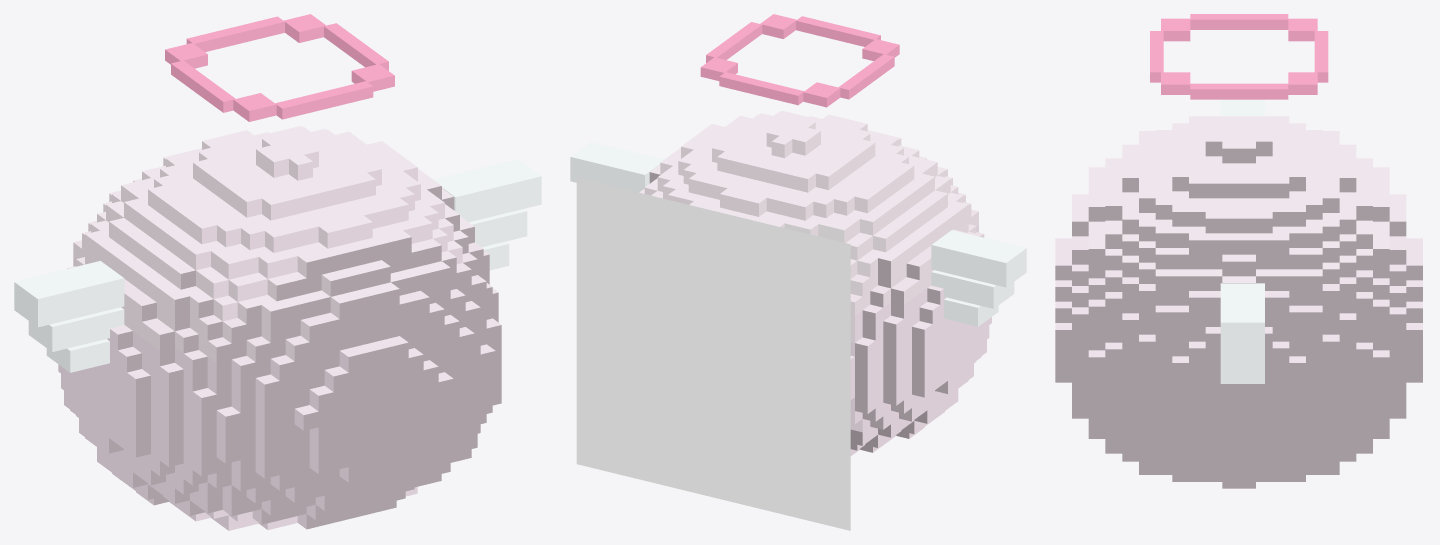
Rendered from slime_lumen.glb.
The picture shows the model from 3 angles, left to right: view 1: azimuth 30°, elevation 25°; view 2: azimuth 150°, elevation 25°; view 3: azimuth 270°, elevation 25°; orthographic projection. The views are drawn at different scales.
Visible parts, largest first — view 1: Shell, ElementDetails; view 2: Face, Shell, ElementDetails; view 3: Shell, ElementDetails.
Part boxes in pixels (x1,y1,x2,y2): Shell: (58,126,501,530); ElementDetails: (14,14,541,372); Face: (576,177,850,530); Shell: (639,110,991,455); ElementDetails: (570,14,1026,326); Shell: (1055,116,1422,488); ElementDetails: (1150,14,1328,383).
Bounding box in the file's own units: 1.68 × 1.39 × 1.15.
